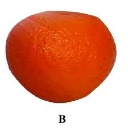orange: (3, 10, 118, 102)
